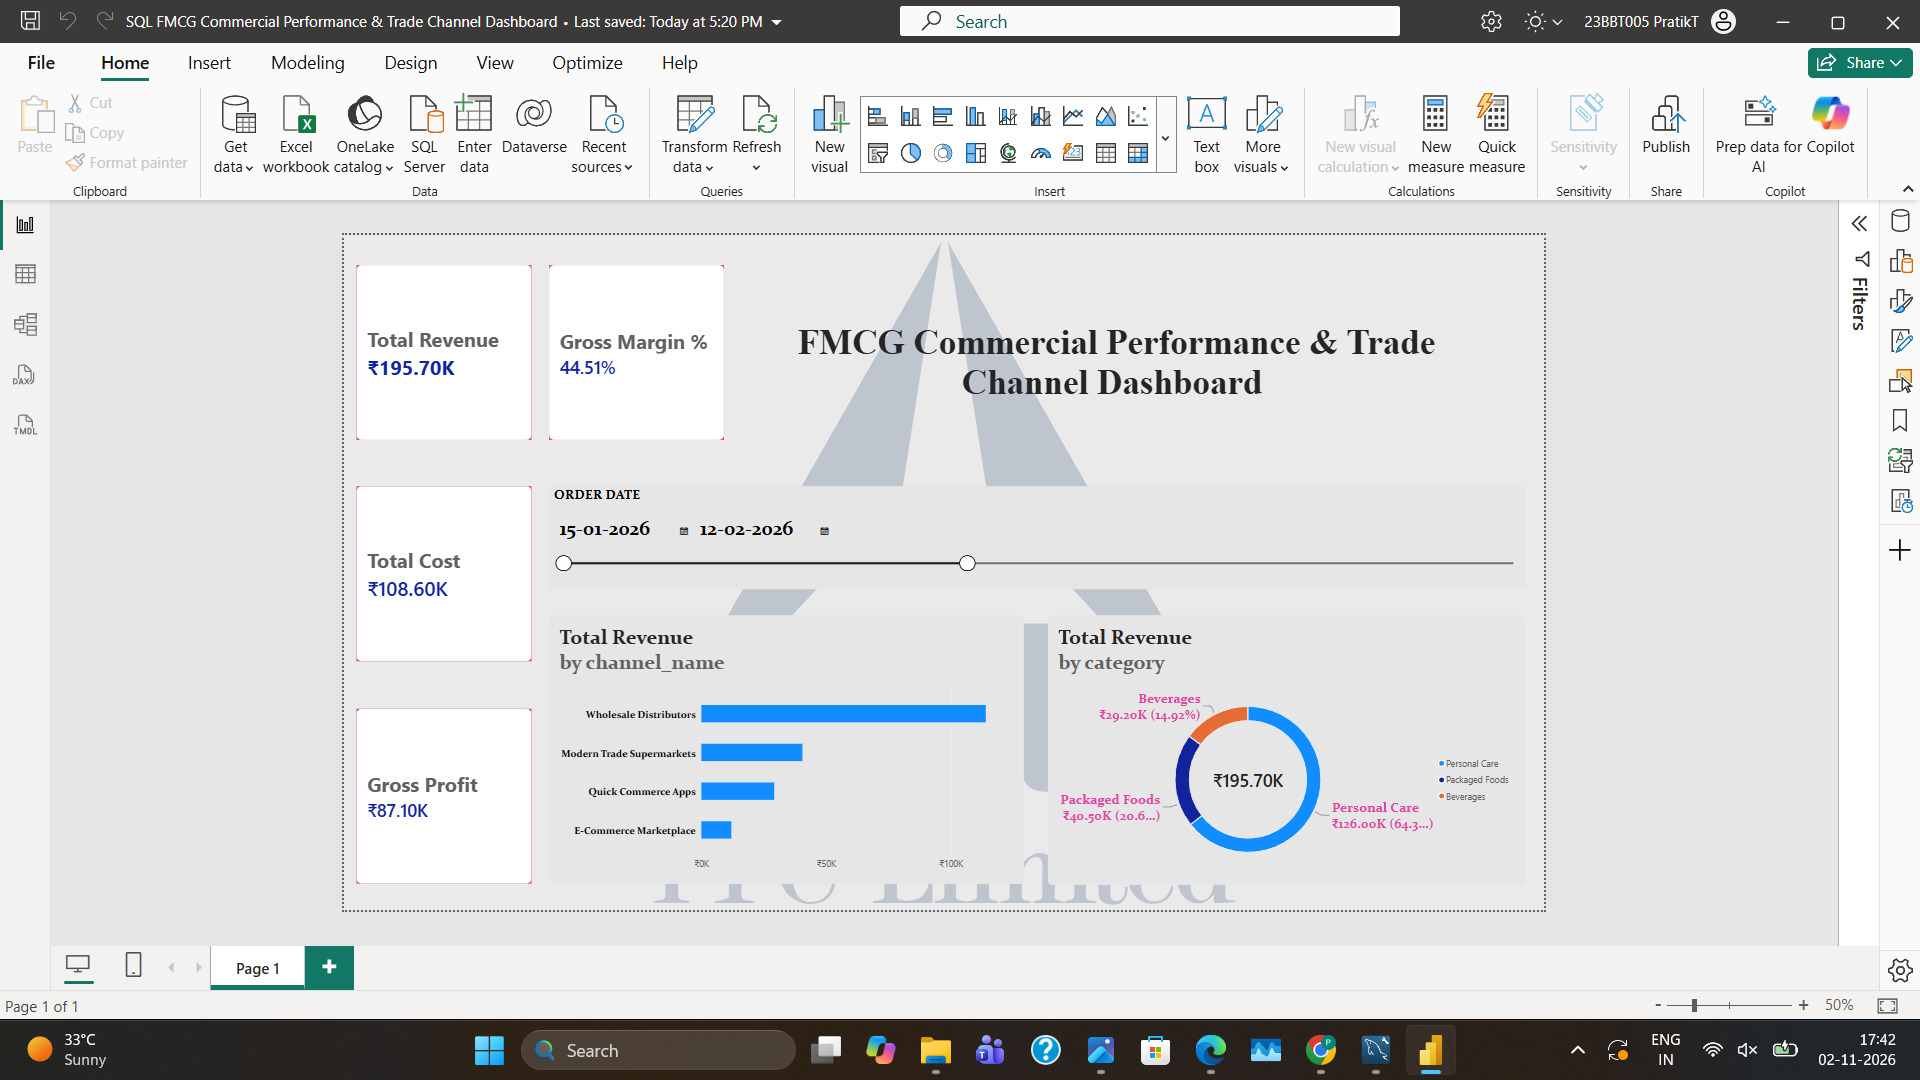

The page's visual inventory and layout, read from the dashboard file:
{"tool":"powerbi","page":{"name":"Page 1","canvas":[1920,1080],"ordinal":0},"visuals":[{"type":"cardVisual","fields":{"Data":["fact_sales.Total Revenue"]},"box":[20,48,280,280],"z":0},{"type":"cardVisual","fields":{"Data":["fact_sales.Total Cost"]},"box":[20,402,280,280],"z":1000},{"type":"cardVisual","fields":{"Data":["fact_sales.Gross Profit"]},"box":[20,758,280,280],"z":2000},{"type":"cardVisual","fields":{"Data":["fact_sales.Gross Margin %"]},"box":[328,48,280,280],"z":3000},{"type":"clusteredBarChart","fields":{"Category":["dim_channels.channel_name"],"Y":["fact_sales.Total Revenue"]},"box":[328,608,760,430],"z":4000},{"type":"donutChart","fields":{"Category":["dim_products.category"],"Y":["fact_sales.Total Revenue"]},"box":[1126,608,764,432],"z":5000},{"type":"slicer","fields":{"Values":["fact_sales.order_date"]},"box":[328,402,1562,164],"z":6000},{"type":"textbox","box":[310,398,1076,54],"z":7000},{"type":"textbox","box":[608,48,1242,280],"z":8000}]}

Visuals, with their boxes in screenshot pixels (x1, y1, x2, y2):
cardVisual - fact_sales.Total Revenue: pyautogui.locateOnScreen(35, 37, 311, 313)
cardVisual - fact_sales.Total Cost: pyautogui.locateOnScreen(35, 386, 311, 663)
cardVisual - fact_sales.Gross Profit: pyautogui.locateOnScreen(35, 738, 311, 1014)
cardVisual - fact_sales.Gross Margin %: pyautogui.locateOnScreen(338, 37, 615, 313)
clusteredBarChart - dim_channels.channel_name x fact_sales.Total Revenue: pyautogui.locateOnScreen(338, 590, 1088, 1014)
donutChart - dim_products.category x fact_sales.Total Revenue: pyautogui.locateOnScreen(1125, 590, 1879, 1016)
slicer - fact_sales.order_date: pyautogui.locateOnScreen(338, 386, 1879, 548)
textbox: pyautogui.locateOnScreen(321, 382, 1382, 436)
textbox: pyautogui.locateOnScreen(615, 37, 1839, 313)
